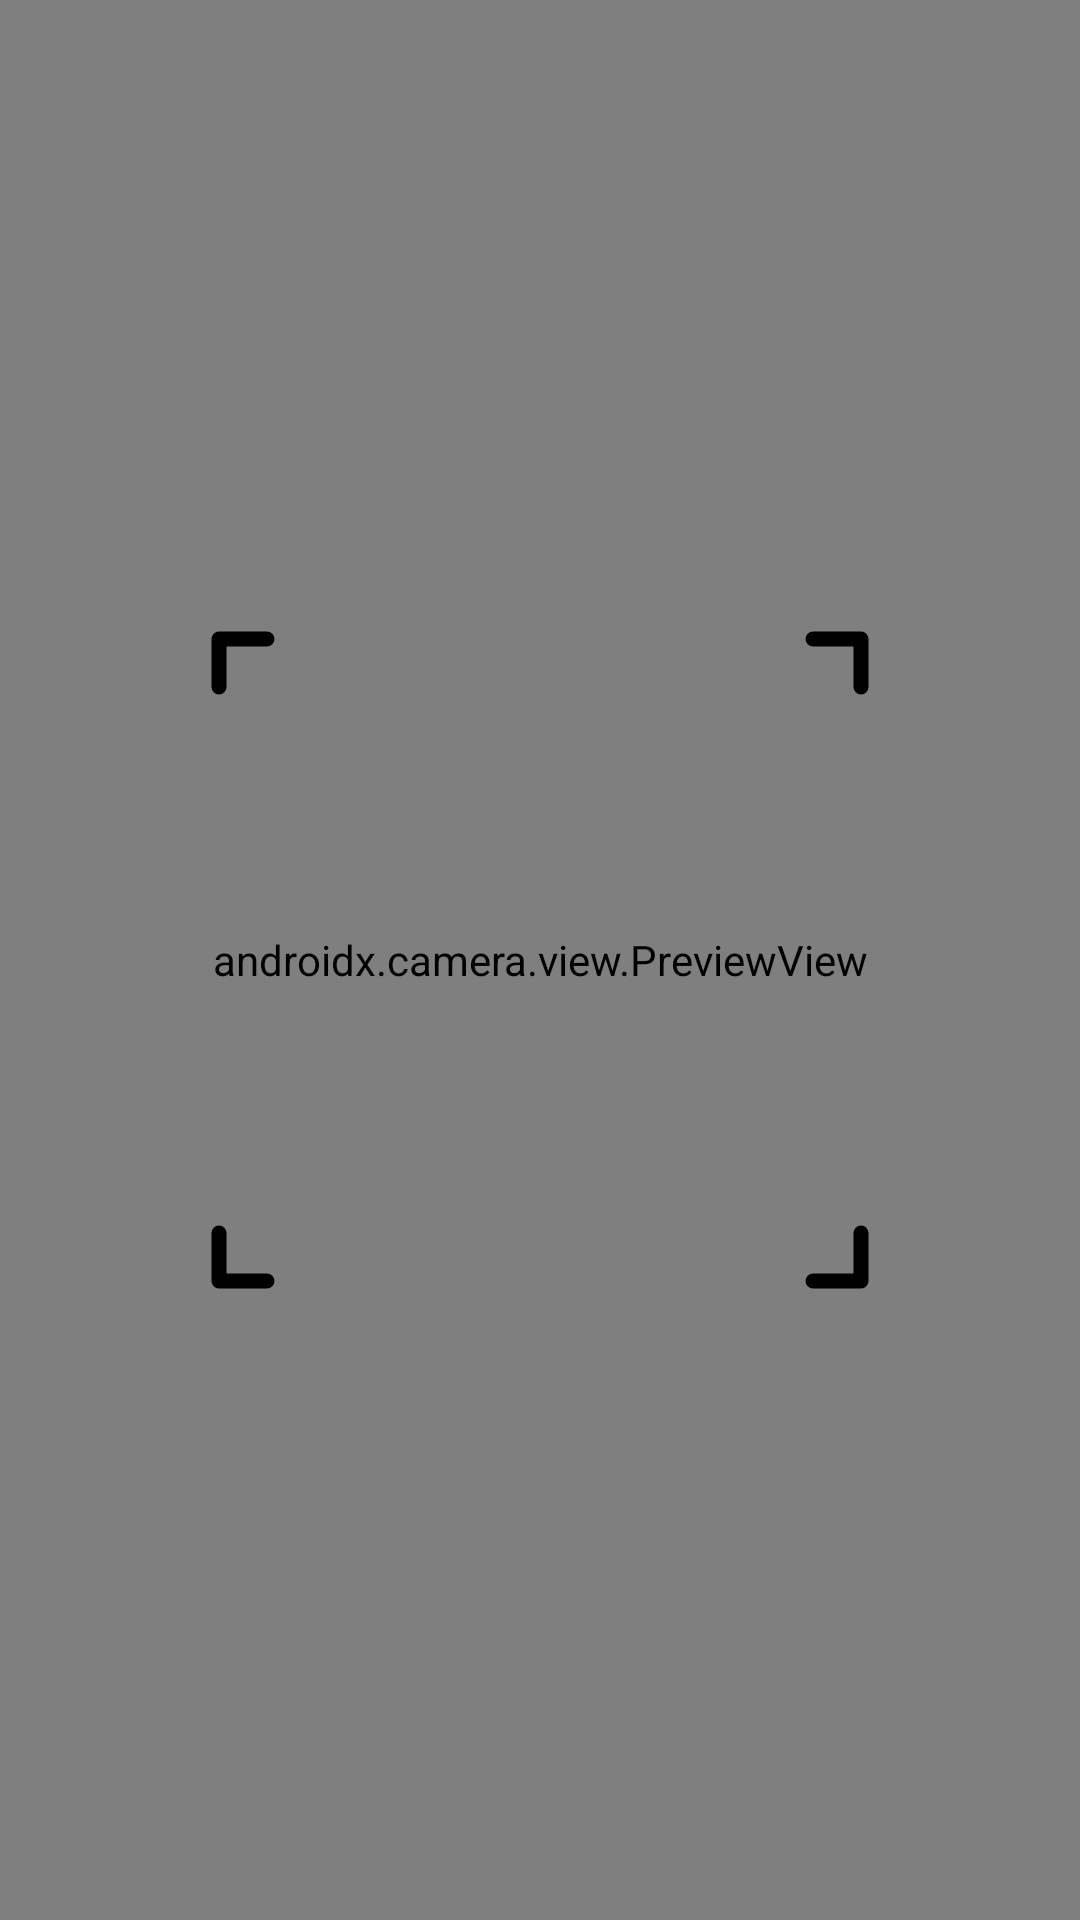

Where icons sit on this 1080w x 1920h app screen, as (x1, y1, x2, y2):
qrcode left bottom: (211, 1225, 275, 1289)
qrcode left top: (211, 631, 275, 695)
qrcode right bottom: (805, 1225, 869, 1289)
qrcode right top: (805, 631, 869, 695)
